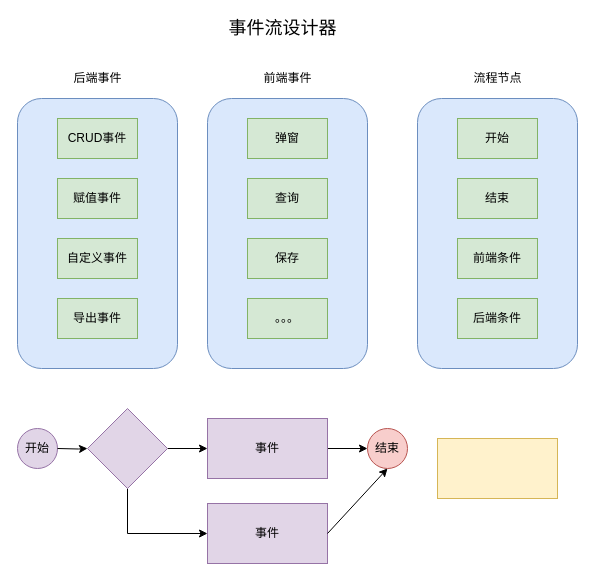
Some shapes in this 595 by 581 pixel diagram are drawn without their labels. Each missing label, with the box of its shape:
参数池: (436, 438, 558, 498)
条件: (86, 408, 168, 488)
